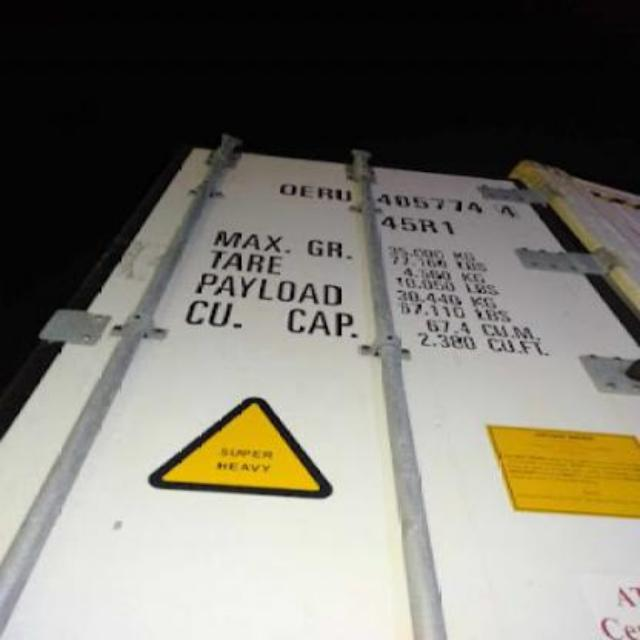0: (396, 194, 412, 210)
4: (496, 206, 518, 218), (468, 199, 484, 215), (378, 192, 392, 206)
5: (412, 194, 430, 210)
7: (432, 194, 448, 212), (448, 198, 466, 212)
E: (300, 182, 314, 198)
O: (278, 182, 298, 195)
R: (321, 186, 334, 198)
U: (336, 188, 352, 202)
